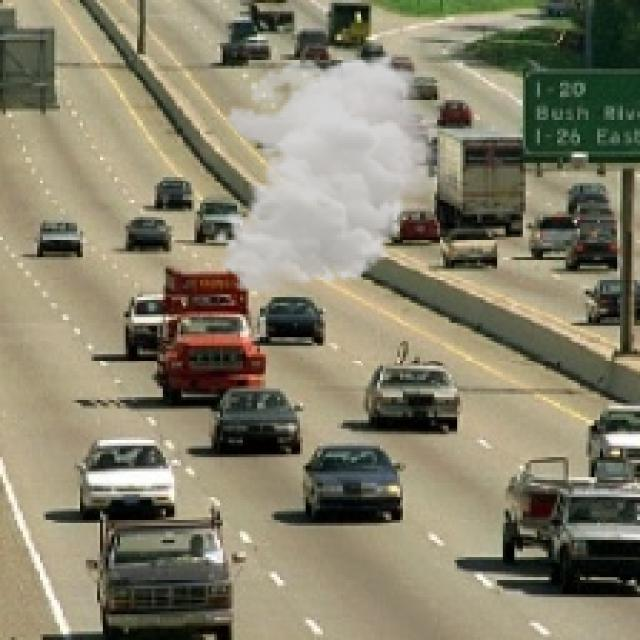smoke: (212, 52, 452, 294)
